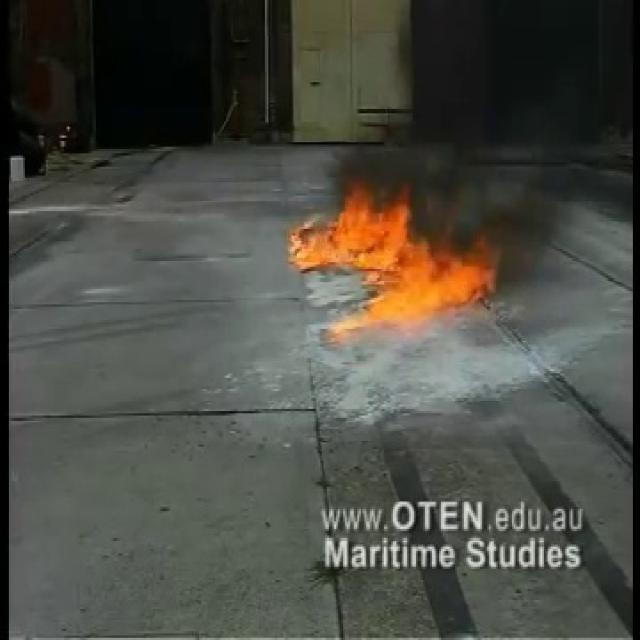Fire: (284, 172, 492, 352)
Smoke: (372, 0, 634, 271)
